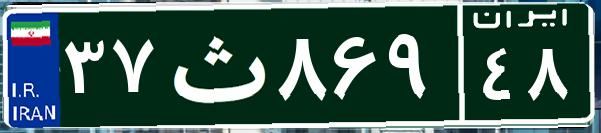3: (57, 26, 110, 107)
4: (475, 38, 525, 113)
6: (330, 28, 385, 110)
7: (110, 28, 158, 105)
8: (273, 28, 330, 110), (525, 38, 570, 115)
9: (385, 28, 445, 110)
ث: (158, 15, 273, 115)
